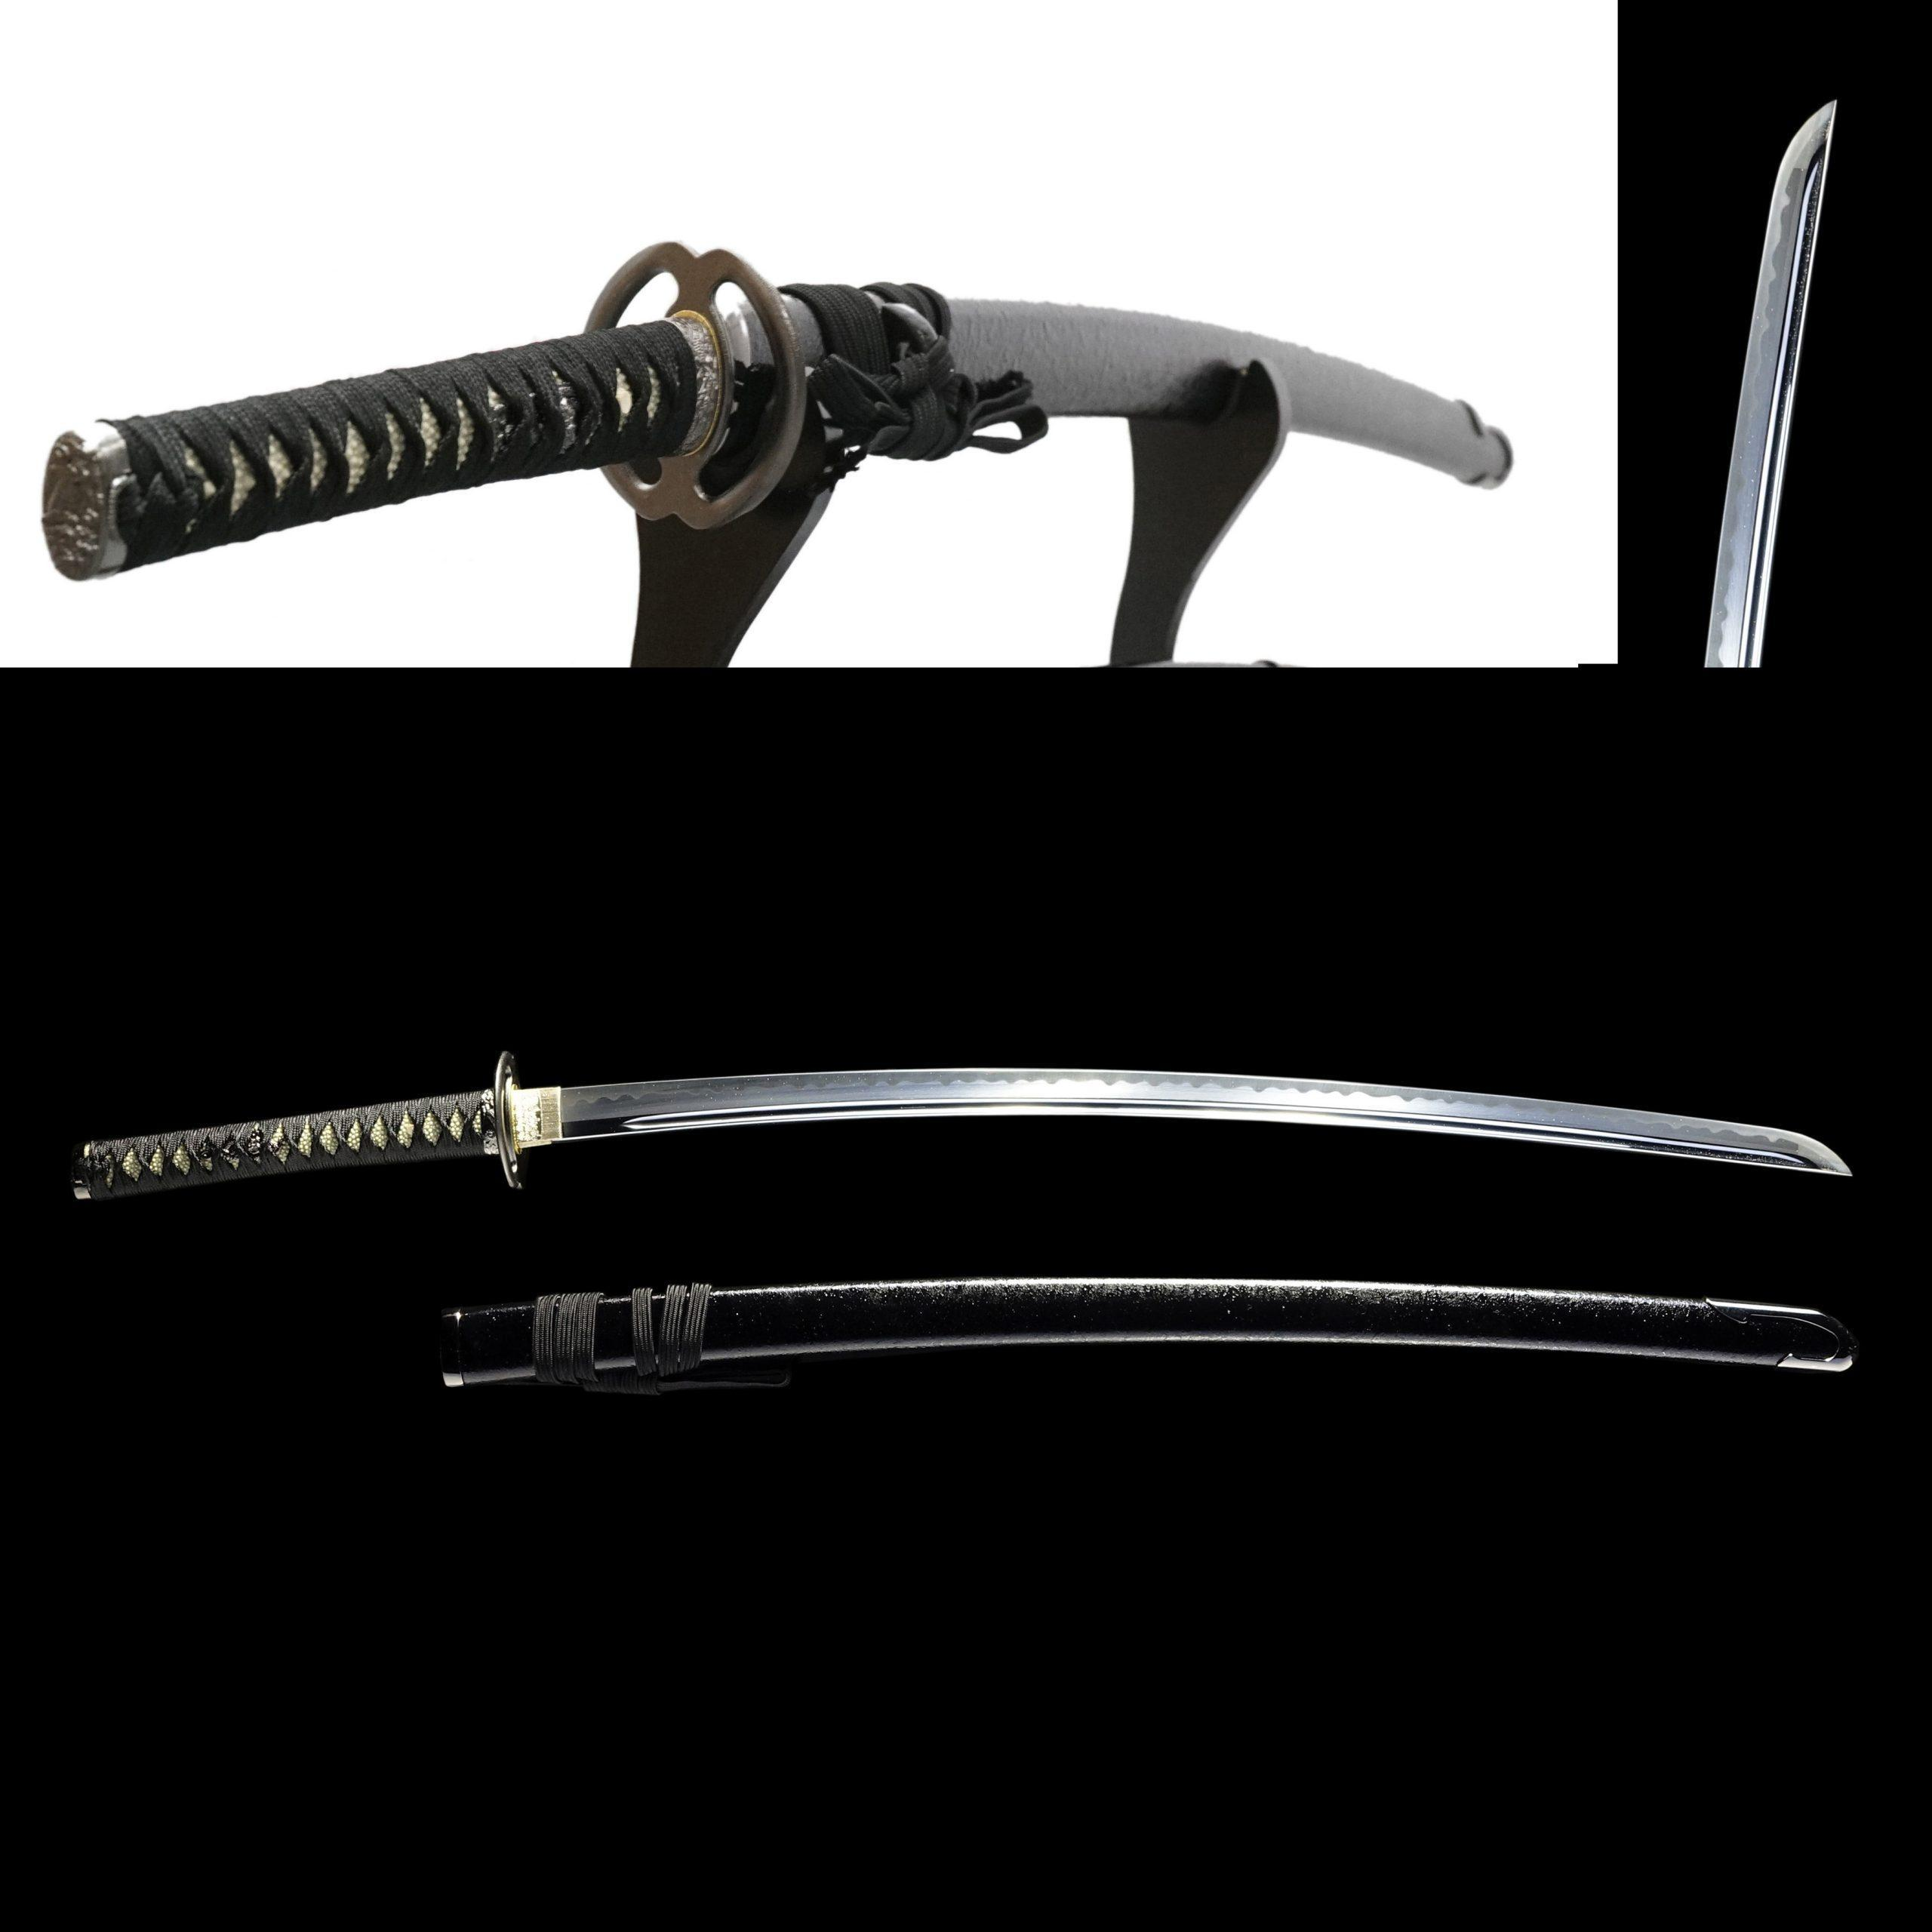espada: (42, 292, 1527, 589), (78, 1033, 1897, 1224)
